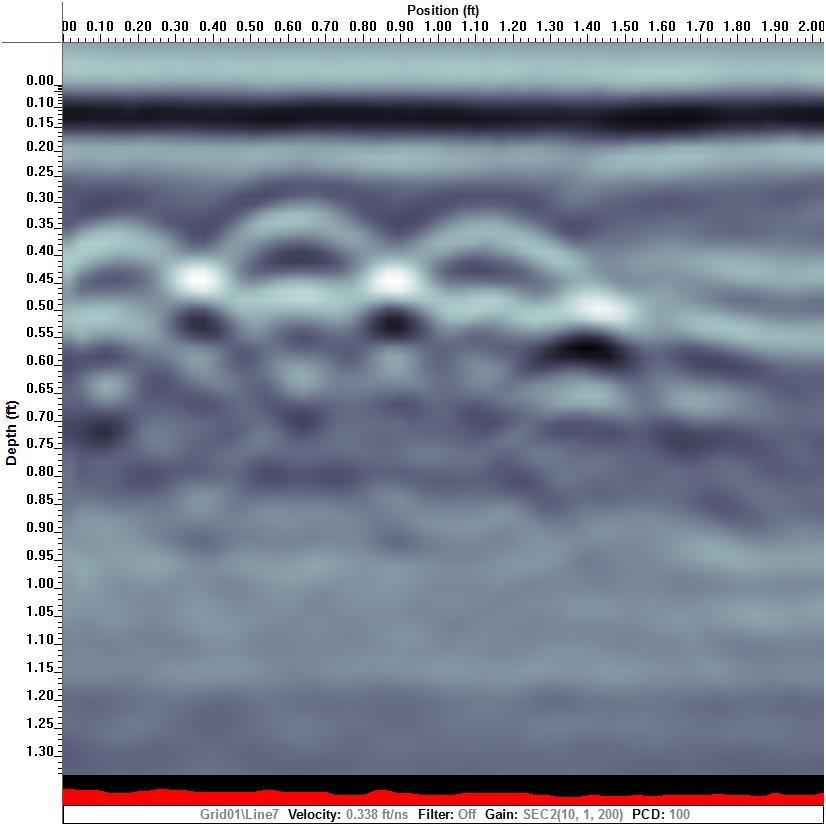hyperbola: (289, 208, 677, 461), (146, 202, 464, 440), (64, 210, 303, 446)
